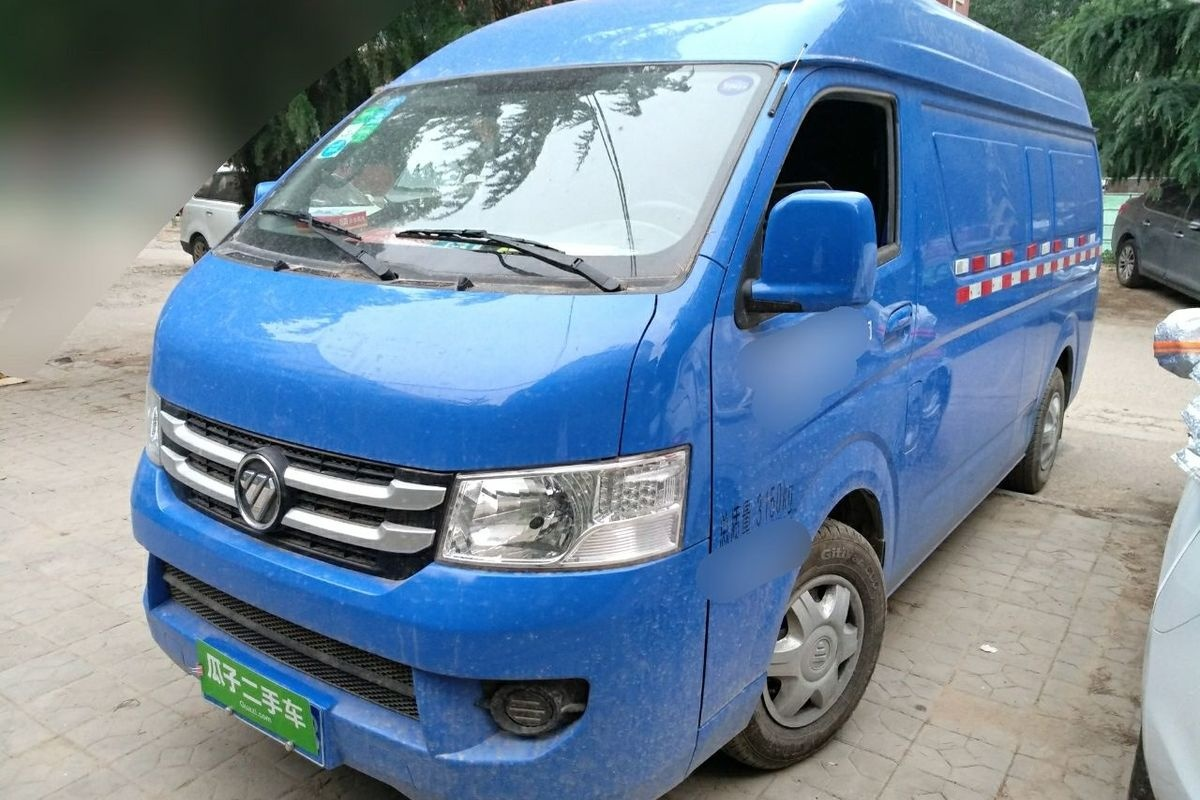minibus: (120, 19, 1103, 757)
